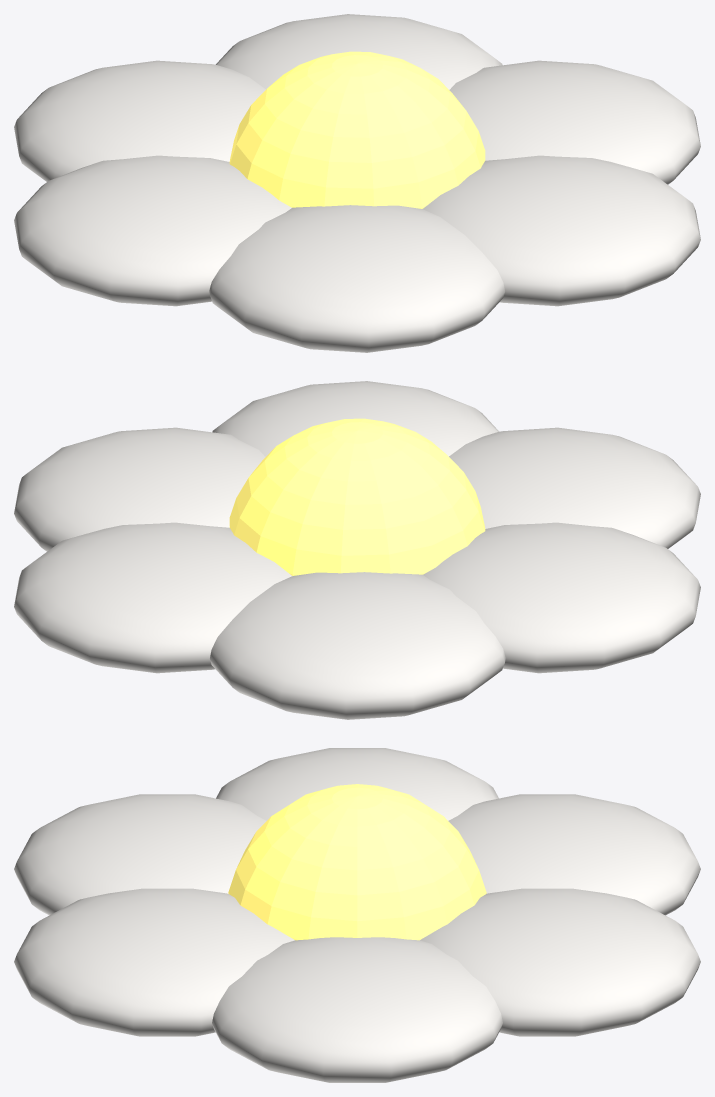
Rendered from flower_daisy.glb.
3 renders of one model, top to bottom at view 1: azimuth 30°, elevation 25°; view 2: azimuth 150°, elevation 25°; view 3: azimuth 270°, elevation 25°, orthographic.
Parts seen in each view (by area): view 1: daisy_petal_4, daisy_center, daisy_petal_5, daisy_petal_3, daisy_petal_2, daisy_petal_0, daisy_petal_1; view 2: daisy_petal_2, daisy_center, daisy_petal_1, daisy_petal_3, daisy_petal_4, daisy_petal_0, daisy_petal_5; view 3: daisy_petal_0, daisy_center, daisy_petal_1, daisy_petal_5, daisy_petal_2, daisy_petal_4, daisy_petal_3.
Boxes of the visible parts, x1,y1,x2,y2 form: daisy_petal_4: [209, 205, 504, 352]; daisy_center: [229, 51, 485, 208]; daisy_petal_5: [422, 155, 700, 306]; daisy_petal_3: [14, 155, 291, 306]; daisy_petal_2: [14, 60, 265, 181]; daisy_petal_0: [449, 60, 700, 184]; daisy_petal_1: [216, 14, 502, 89]; daisy_petal_2: [210, 572, 505, 719]; daisy_center: [229, 418, 485, 575]; daisy_petal_1: [14, 522, 292, 673]; daisy_petal_3: [423, 522, 700, 673]; daisy_petal_4: [449, 427, 700, 548]; daisy_petal_0: [14, 427, 265, 551]; daisy_petal_5: [212, 381, 498, 456]; daisy_petal_0: [212, 937, 502, 1082]; daisy_center: [228, 784, 486, 940]; daisy_petal_1: [420, 888, 700, 1036]; daisy_petal_5: [14, 888, 294, 1036]; daisy_petal_2: [448, 794, 700, 915]; daisy_petal_4: [14, 794, 266, 915]; daisy_petal_3: [216, 748, 498, 820].
Bounding box in the file's own units: 0.3365 × 0.12 × 0.3132.
